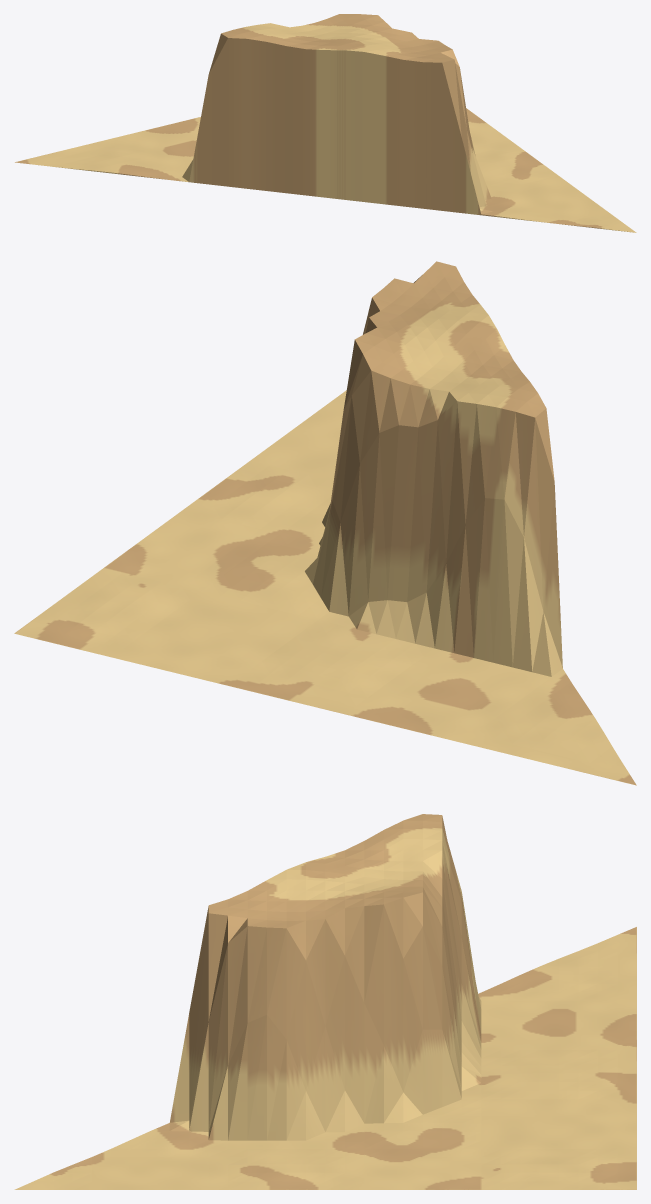
Rendered from Desert_Mountains_06_SE.obj.
3 views of the same model, one above another, from view 1: azimuth 30°, elevation 25°; view 2: azimuth 150°, elevation 25°; view 3: azimuth 270°, elevation 25° (orthographic). The views are drawn at different scales.
Size of the model in its own units: 10 by 3.63 by 10.
Materials: 1 (1 with a texture image).
